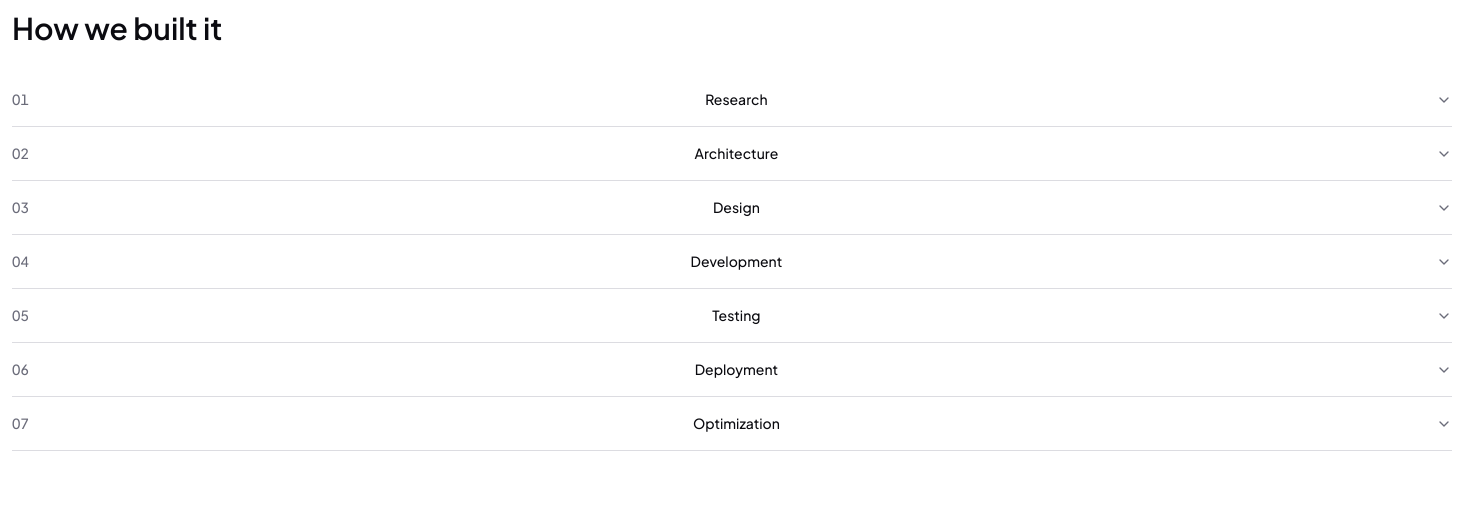
CaseStudyEngineeringProcess › expands a stage to reveal its description, and tracks it
Click the button "01 Research".
click(732, 100)  # box [12,73,1452,126]
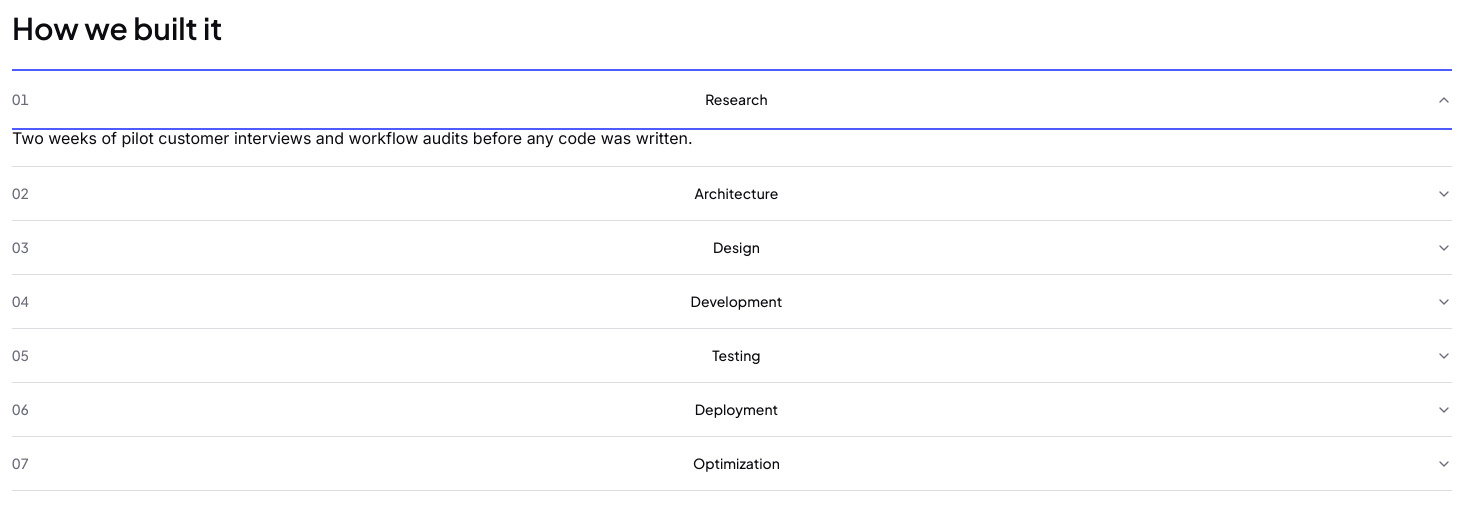
Expected: the text "Two weeks of pilot customer interviews and workflow audits before any code was written." is shown, [12,128,693,148]
